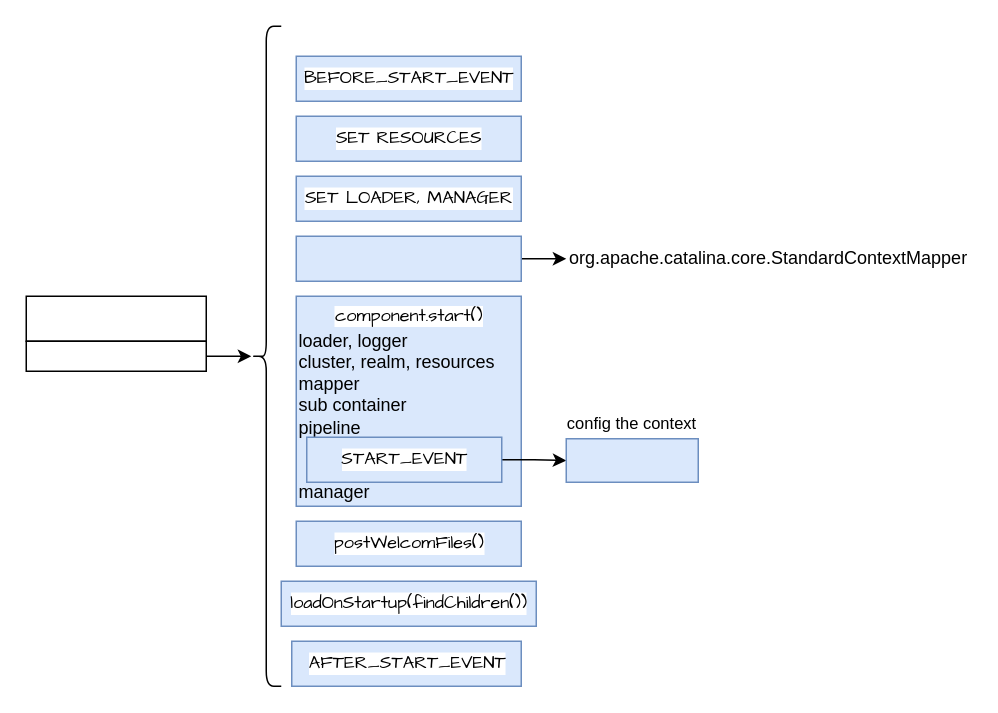
Some shapes in this 998 by 713 pixel diagram are drawn without their labels. The centre of each missing label's shape, as x and y in pixels:
addDefaultMapper(): [408,258]
ContextConfig: [631,459]
StandardContext: [115,318]
start(): [115,355]
